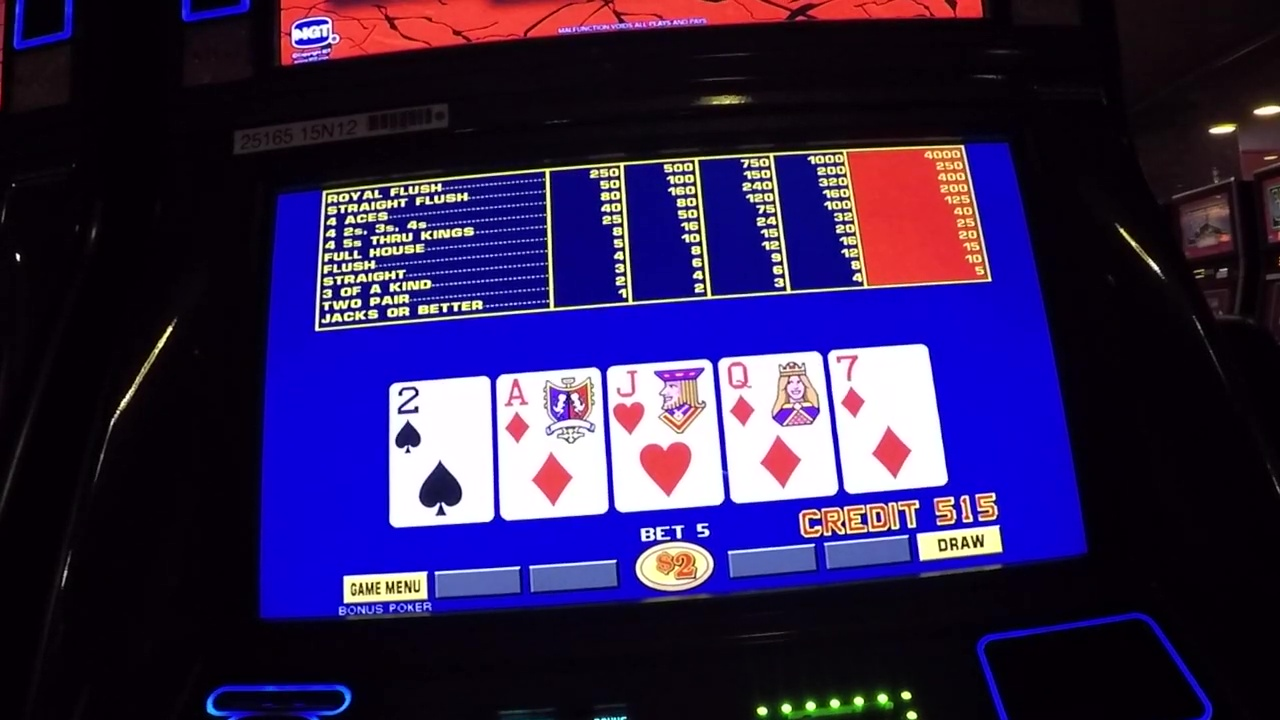D7: (839, 351, 927, 427)
DA: (500, 375, 599, 444)
DQ: (726, 359, 819, 434)
HJ: (612, 363, 712, 437)
S2: (392, 383, 486, 452)
